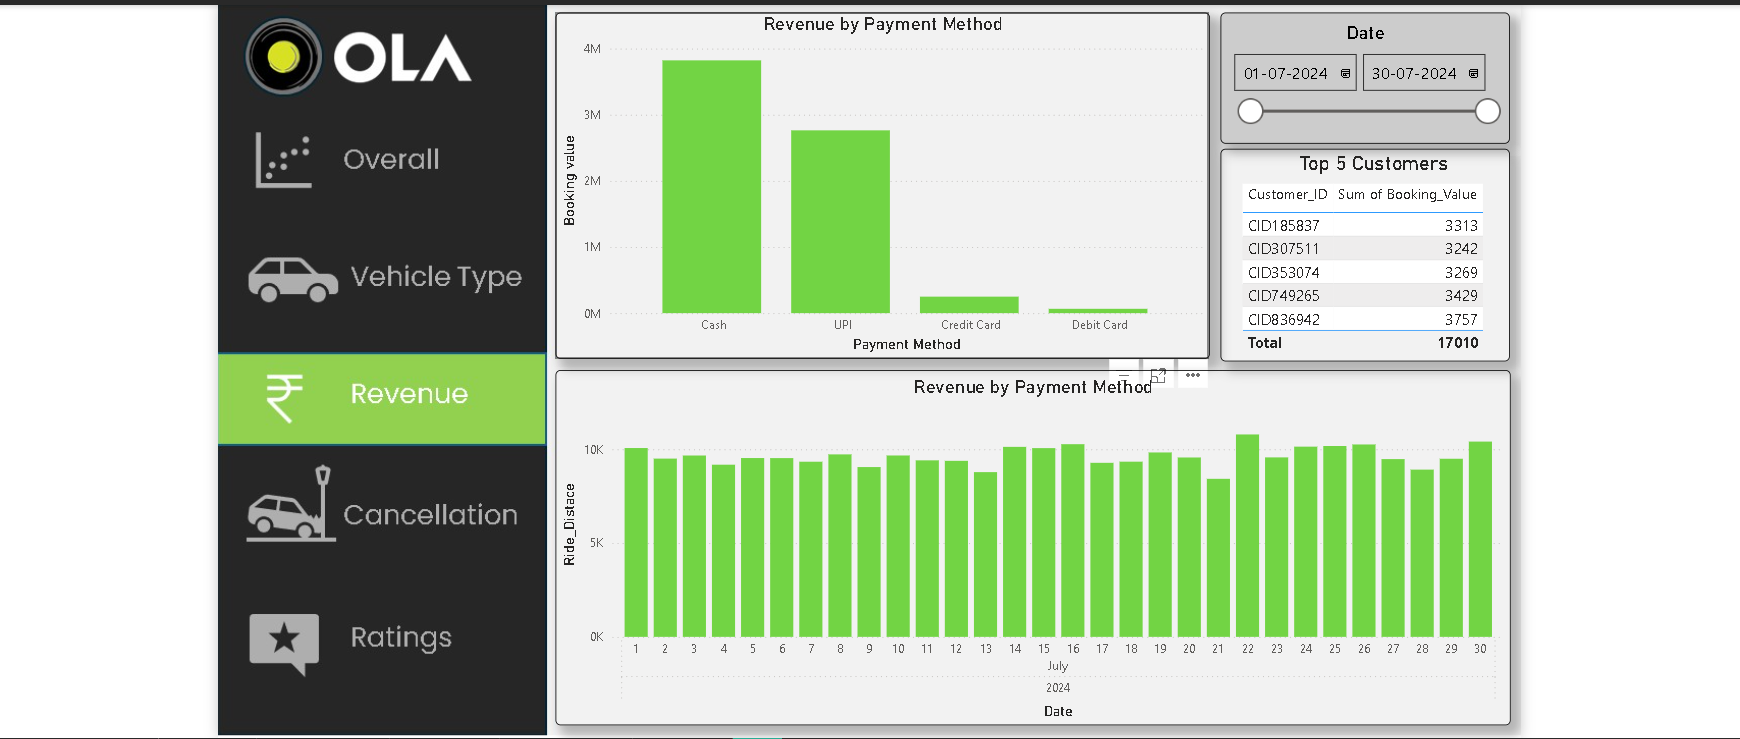

What the dashboard file says about the page in this screenshot:
{"tool":"powerbi","page":{"name":"Revenue","canvas":[1280,720],"ordinal":2},"visuals":[{"type":"actionButton","box":[0,219.6,325.2,90.8],"z":0},{"type":"actionButton","box":[0,445.4,325.2,90.8],"z":1000},{"type":"actionButton","box":[0,582.8,325.2,90.8],"z":2000},{"type":"actionButton","box":[0,104.3,325.2,90.8],"z":3000},{"type":"columnChart","title":"Revenue by Payment Method","fields":{"Y":["Sum(July.Booking_Value)"],"Category":["July.Payment_Method"]},"box":[330.7,6.9,642.2,340.3],"z":4000},{"type":"columnChart","title":"Revenue by Payment Method","fields":{"Y":["Sum(July.Ride_Distance)"],"Category":["July.Date.Variation.Date Hierarchy.Year","July.Date.Variation.Date Hierarchy.Month","July.Date.Variation.Date Hierarchy.Day"]},"box":[330.7,358.1,937.2,348.5],"z":5000},{"type":"slicer","title":"Date","fields":{"Values":["July.Date"]},"box":[983.9,6.9,284,129],"z":6000},{"type":"tableEx","title":"Top 5 Customers","fields":{"Values":["July.Customer_ID","Sum(July.Booking_Value)"]},"box":[983.9,141.3,284,208.6],"z":7000}]}

Visuals, with their boxes on the page's 1280x720 design canvas (x1, y1, x2, y2). These are canvas units, not pixel positions in the 1740x739 screenshot, which may show the page scaled, cropped or inside an application window:
actionButton: BBox(0, 220, 325, 310)
actionButton: BBox(0, 445, 325, 536)
actionButton: BBox(0, 583, 325, 674)
actionButton: BBox(0, 104, 325, 195)
"Revenue by Payment Method" columnChart: BBox(331, 7, 973, 347)
"Revenue by Payment Method" columnChart: BBox(331, 358, 1268, 707)
"Date" slicer: BBox(984, 7, 1268, 136)
"Top 5 Customers" tableEx: BBox(984, 141, 1268, 350)
